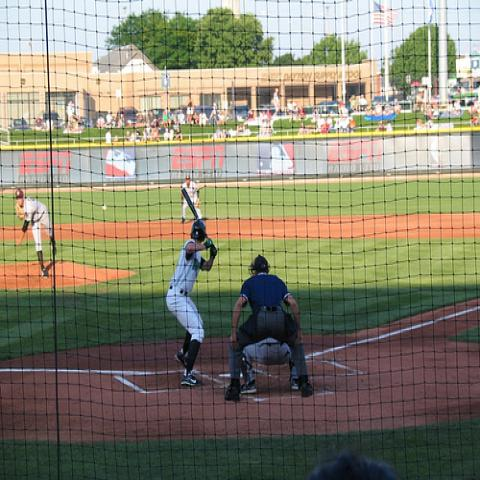car: (8, 119, 32, 131)
